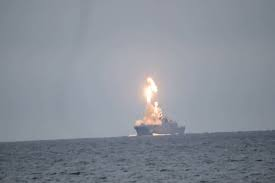tau_muctieu: (128, 106, 189, 136)
